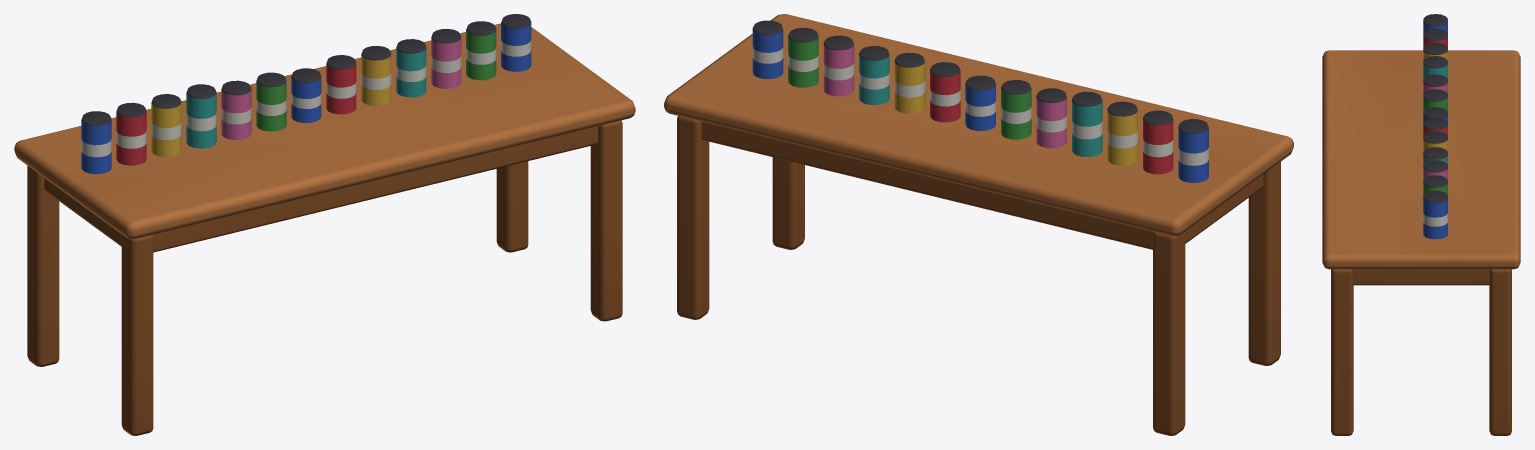
The model's file is furn_glaze_table.glb.
3 renders of one model, left to right at view 1: azimuth 30°, elevation 25°; view 2: azimuth 150°, elevation 25°; view 3: azimuth 270°, elevation 25°, orthographic. The views are drawn at different scales.
Parts seen in each view (by area): view 1: furn_glaze_table_main; view 2: furn_glaze_table_main; view 3: furn_glaze_table_main.
Part boxes in pixels (<box>): furn_glaze_table_main: <box>14,14,635,435</box>; furn_glaze_table_main: <box>664,14,1293,435</box>; furn_glaze_table_main: <box>1322,14,1520,435</box>.
Size of the model in its own units: 1.75 by 0.8917 by 0.7.
